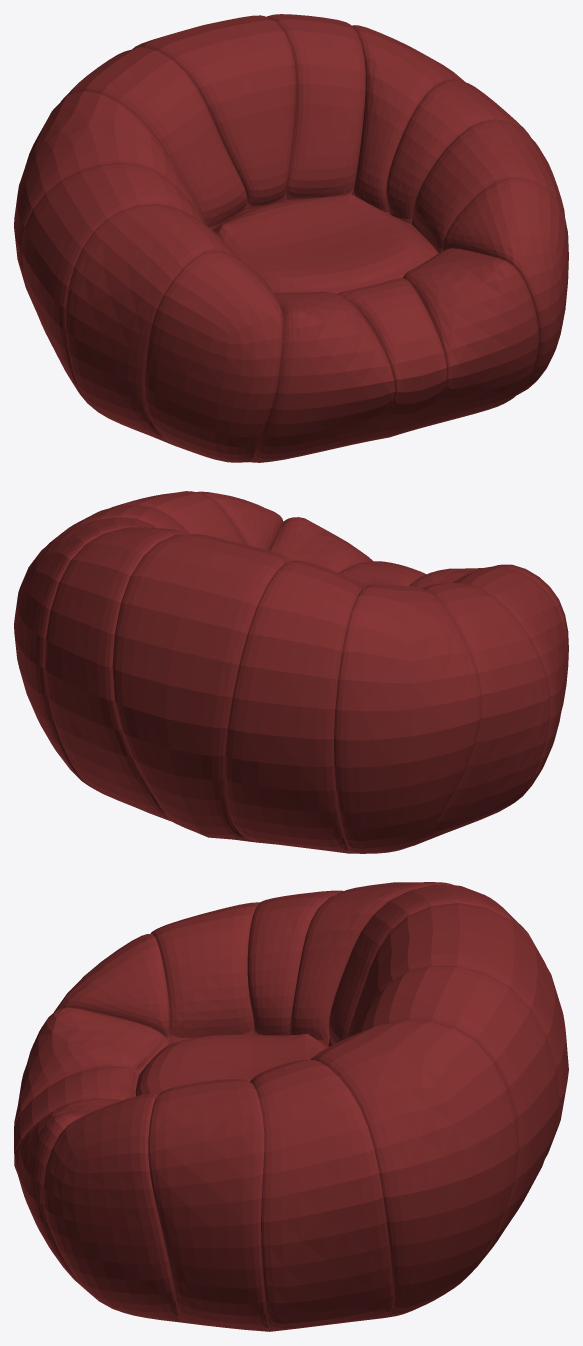
The model's file is fotelmiekki.FBX.
The picture shows the model from 3 angles, top to bottom: view 1: azimuth 30°, elevation 25°; view 2: azimuth 150°, elevation 25°; view 3: azimuth 270°, elevation 25°; orthographic projection. The views are drawn at different scales.
Visible parts, largest first — view 1: fotelmiekki; view 2: fotelmiekki; view 3: fotelmiekki.
Part boxes in pixels (bbox=[...]): fotelmiekki: bbox=[14, 14, 568, 462]; fotelmiekki: bbox=[14, 491, 568, 853]; fotelmiekki: bbox=[14, 882, 568, 1331].
Bounding box in the file's own units: 8.16 × 4.64 × 7.39.
